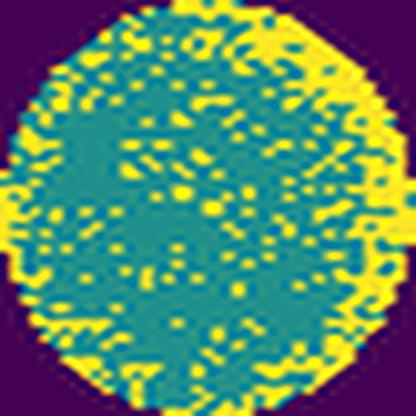Edge-Loc: (172, 0, 416, 392), (0, 174, 38, 289)
